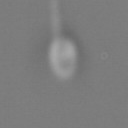abnormal: (43, 1, 61, 35)
